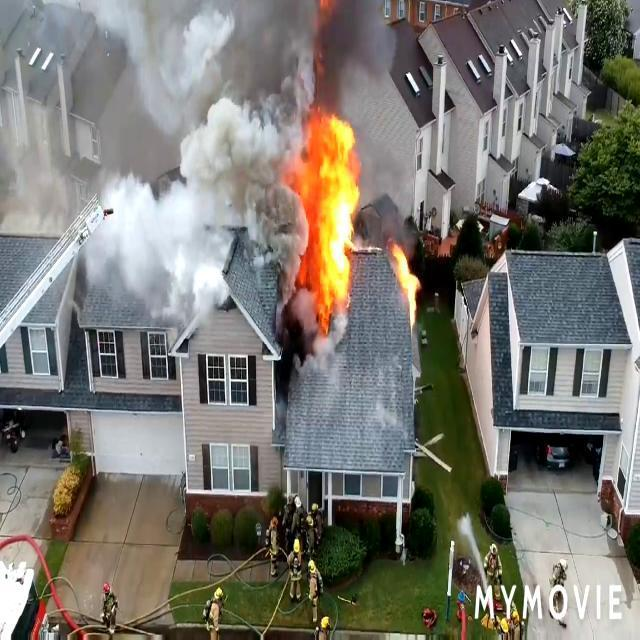Fire: (298, 95, 362, 330), (396, 241, 422, 324)
Smoke: (54, 0, 294, 312)
